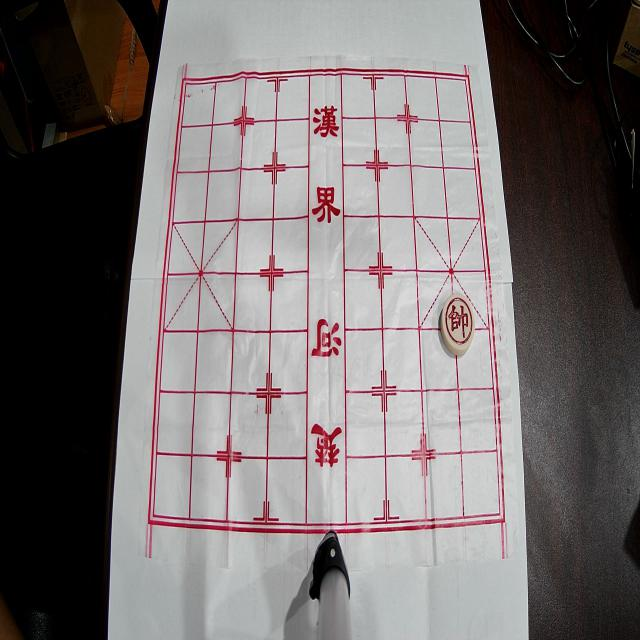red-general: (441, 293, 475, 355)
